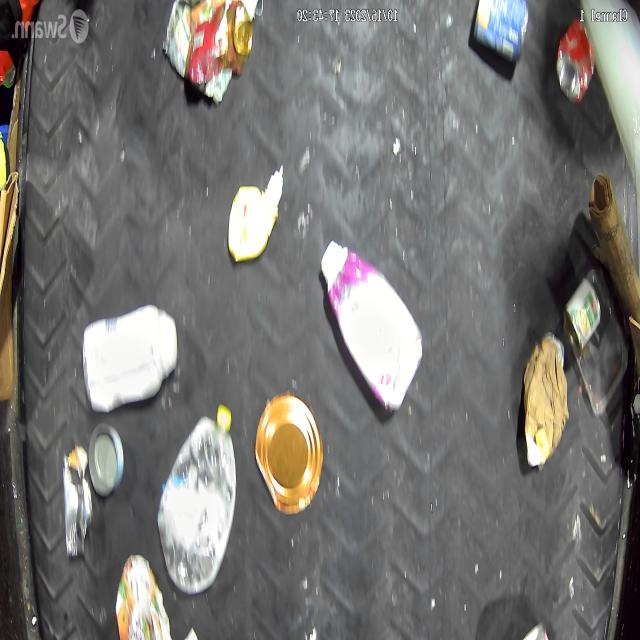can: (467, 0, 535, 71), (554, 17, 598, 106), (62, 444, 94, 560), (85, 416, 126, 506)
plastic_bottle: (159, 408, 235, 597)
